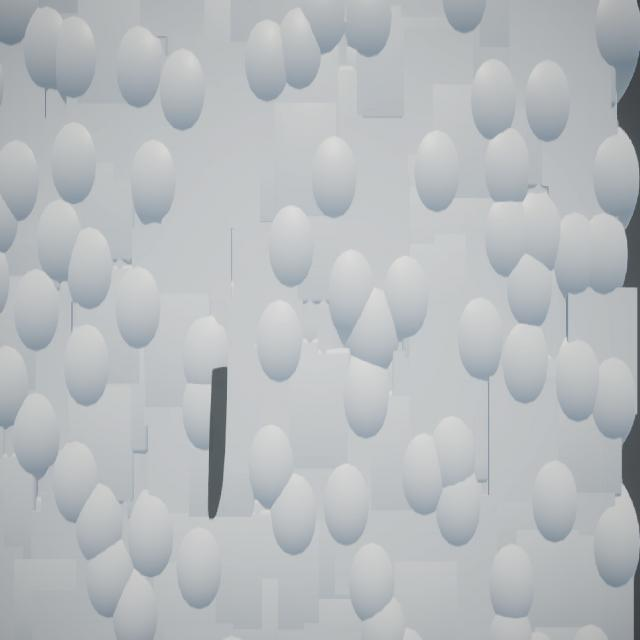top_knife: (209, 367, 229, 521)
